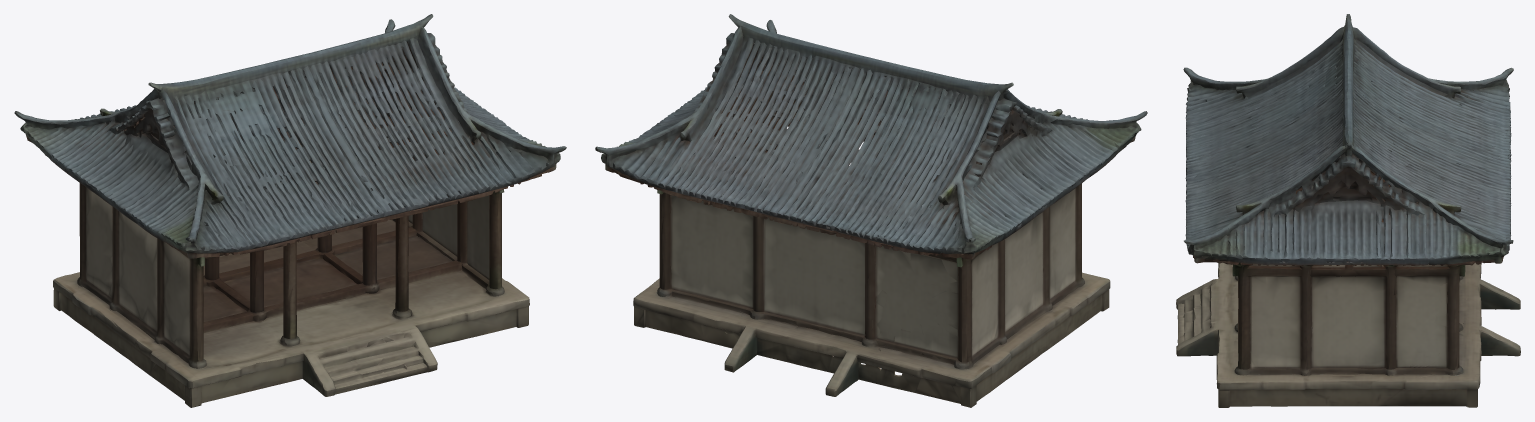
The model's file is ARCH-003.glb.
3 views of the same model, side by side, from view 1: azimuth 30°, elevation 25°; view 2: azimuth 150°, elevation 25°; view 3: azimuth 270°, elevation 25° (orthographic). The views are drawn at different scales.
Parts seen in each view (by area): view 1: world; view 2: world; view 3: world.
Boxes of the visible parts, <box> form: world: <box>14,14,566,407</box>; world: <box>595,14,1147,407</box>; world: <box>1176,14,1520,407</box>.
Size of the model in its own units: 8 by 5.45 by 6.72.
1 material, 1 textured.
